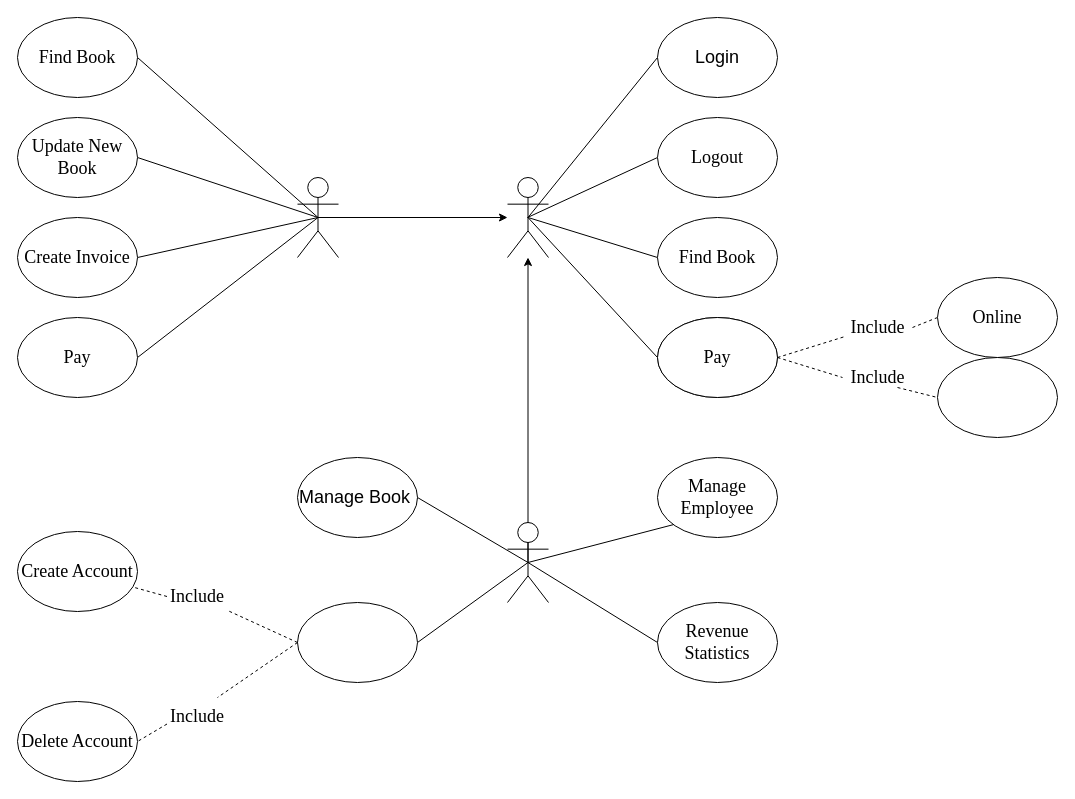
This 1075x799 diagram has some shape labels left out. The centre of each missing label's shape, as x and y in pixels:
"Employee" belongs at point 317,217.
"Manage Account" belongs at point 357,642.
"Manager" belongs at point 527,562.
"Offline" belongs at point 997,397.
"User" belongs at point 527,217.
